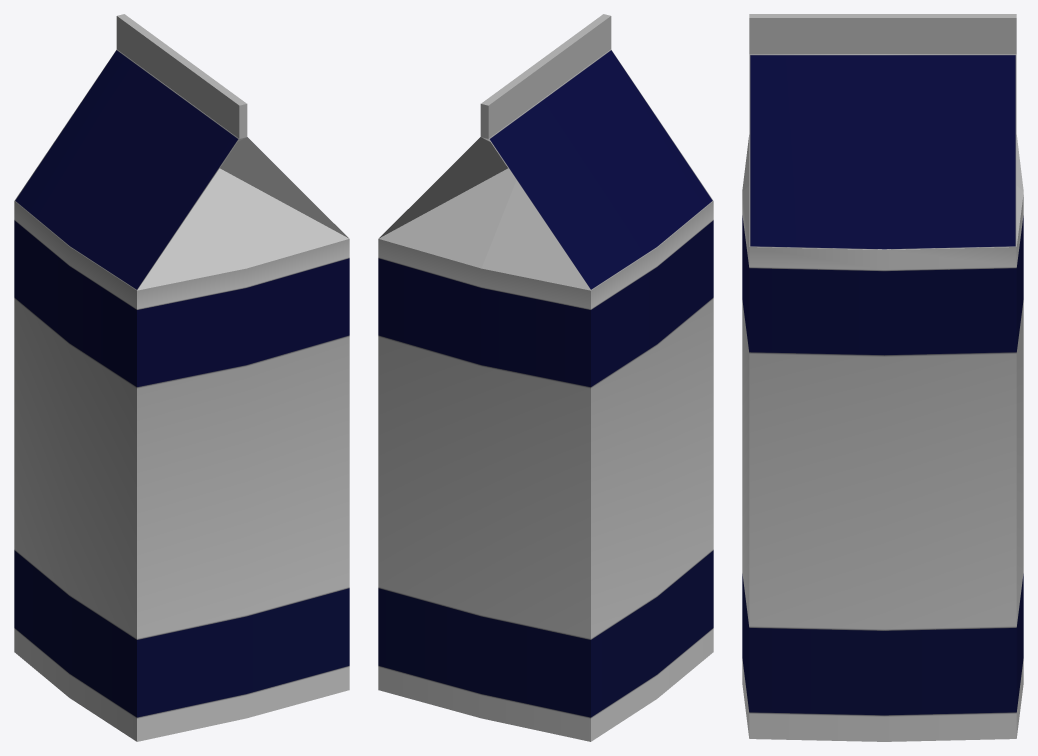
File: milkCarton.fbx
The picture shows the model from 3 angles, left to right: view 1: azimuth 30°, elevation 25°; view 2: azimuth 150°, elevation 25°; view 3: azimuth 270°, elevation 25°; orthographic projection. The views are drawn at different scales.
Visible parts, largest first — view 1: milkCarton; view 2: milkCarton; view 3: milkCarton.
Boxes of the visible parts, left/top/right/bottom form: milkCarton: left=14, top=14, right=349, bottom=741; milkCarton: left=378, top=14, right=713, bottom=741; milkCarton: left=742, top=14, right=1023, bottom=741.
Size of the model in its own units: 162 by 422 by 162.
